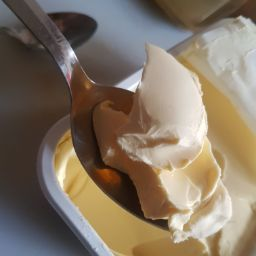Butter: (28, 74, 256, 256), (45, 46, 248, 232)
